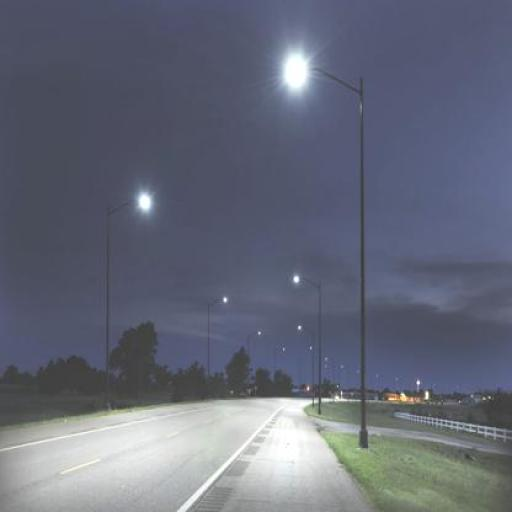street light: (286, 60, 368, 448), (104, 193, 150, 409), (293, 275, 322, 414), (207, 298, 226, 400), (246, 331, 261, 395), (274, 346, 286, 393)
